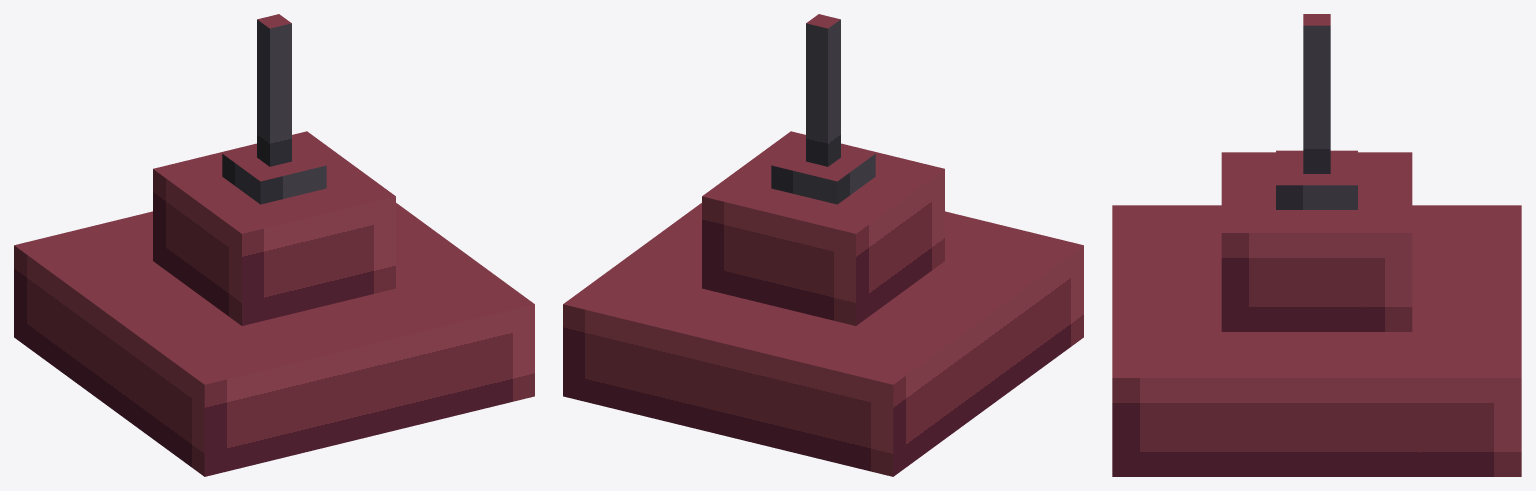
The model's file is int_ceiling_lamp_1ao.fezao.glb.
3 views of the same model, side by side, from view 1: azimuth 30°, elevation 25°; view 2: azimuth 150°, elevation 25°; view 3: azimuth 270°, elevation 25° (orthographic). The views are drawn at different scales.
Parts seen in each view (by area): view 1: INT_CEILING_LAMP_1AO; view 2: INT_CEILING_LAMP_1AO; view 3: INT_CEILING_LAMP_1AO.
Boxes of the visible parts, x1=… form: INT_CEILING_LAMP_1AO: x1=14, y1=14, x2=534, y2=476; INT_CEILING_LAMP_1AO: x1=563, y1=14, x2=1083, y2=476; INT_CEILING_LAMP_1AO: x1=1112, y1=14, x2=1521, y2=476.
Size of the model in its own units: 0.9375 by 1 by 0.9375.
Materials: 1 (1 with a texture image).
